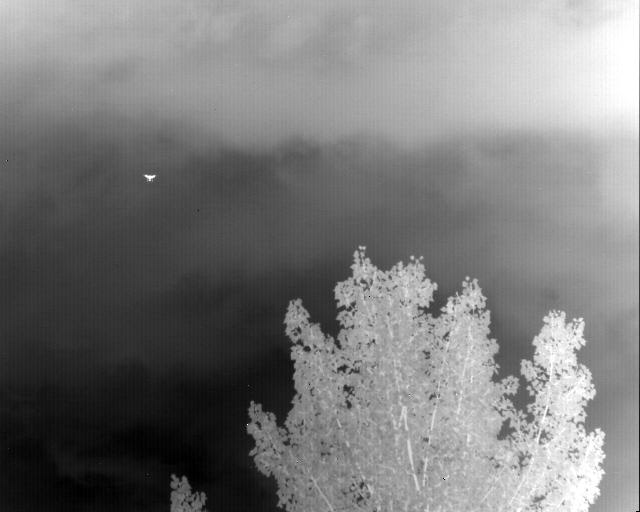plane: (143, 174, 156, 182)
